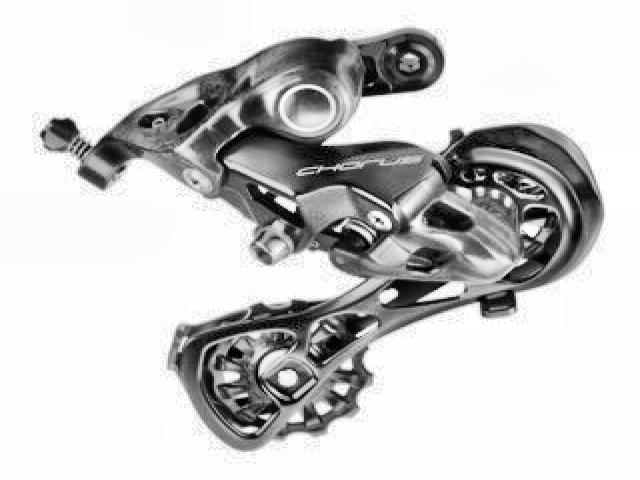rear_derailleur: (33, 26, 605, 455)
